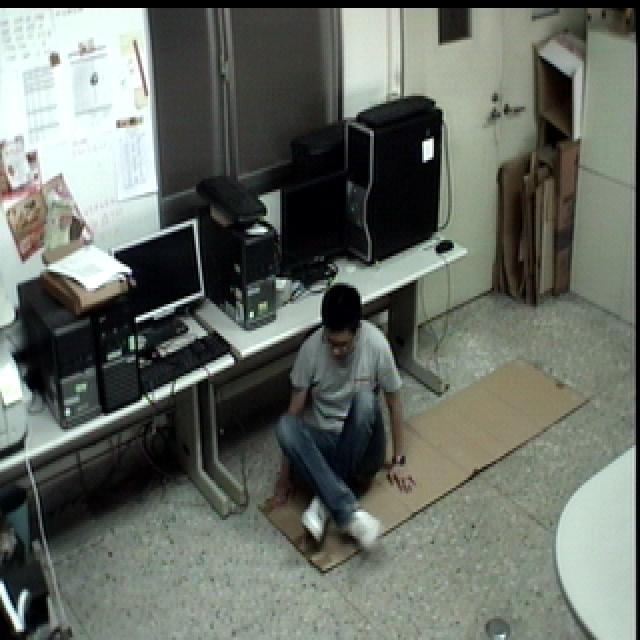sit: (269, 280, 418, 556)
